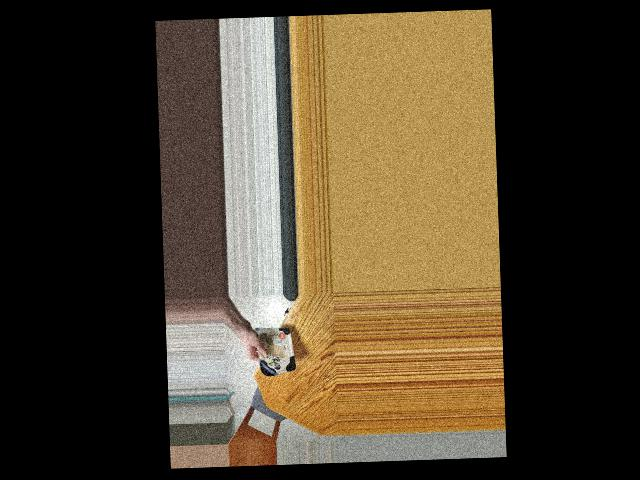cheese: (254, 320, 291, 378)
